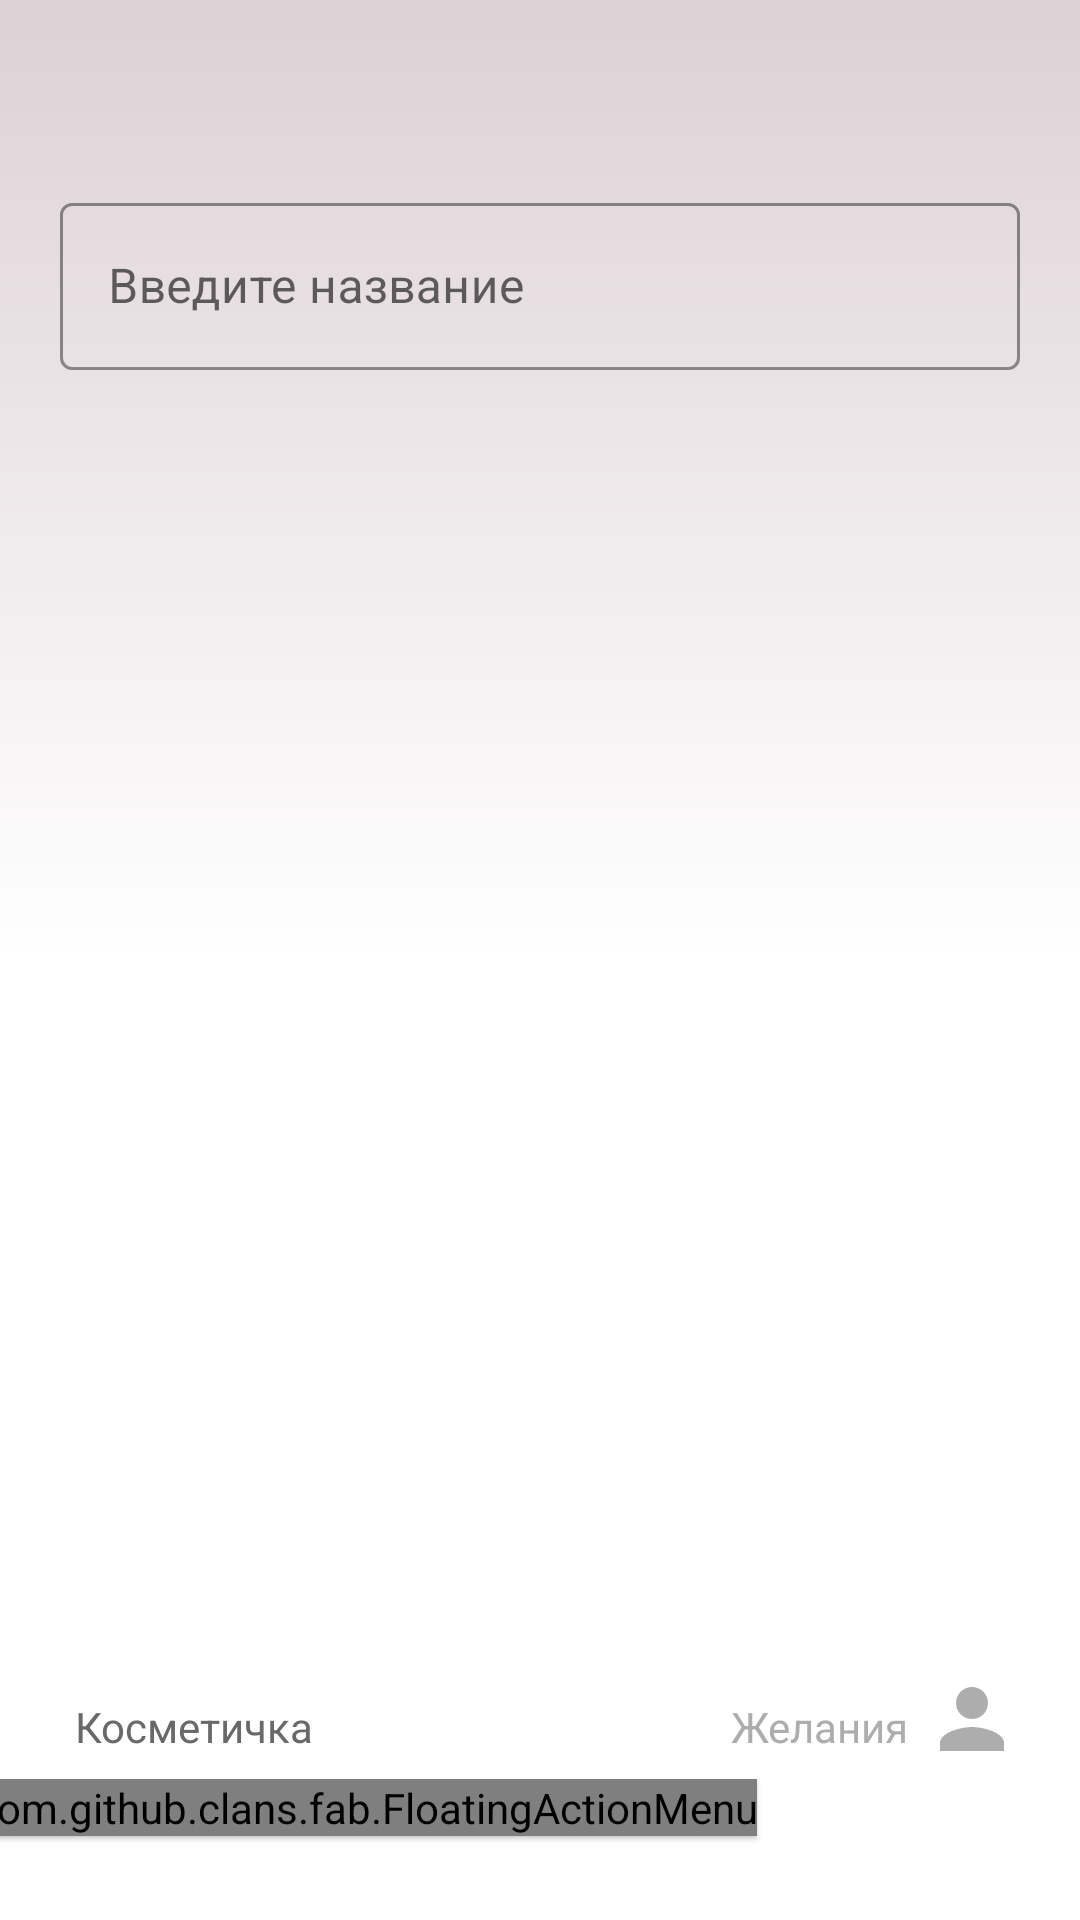

Named icons in this screenshot (1080*1920) and their bounding boxes, Rect(x1, y1, x2, y2):
person: Rect(940, 1687, 1004, 1751)
